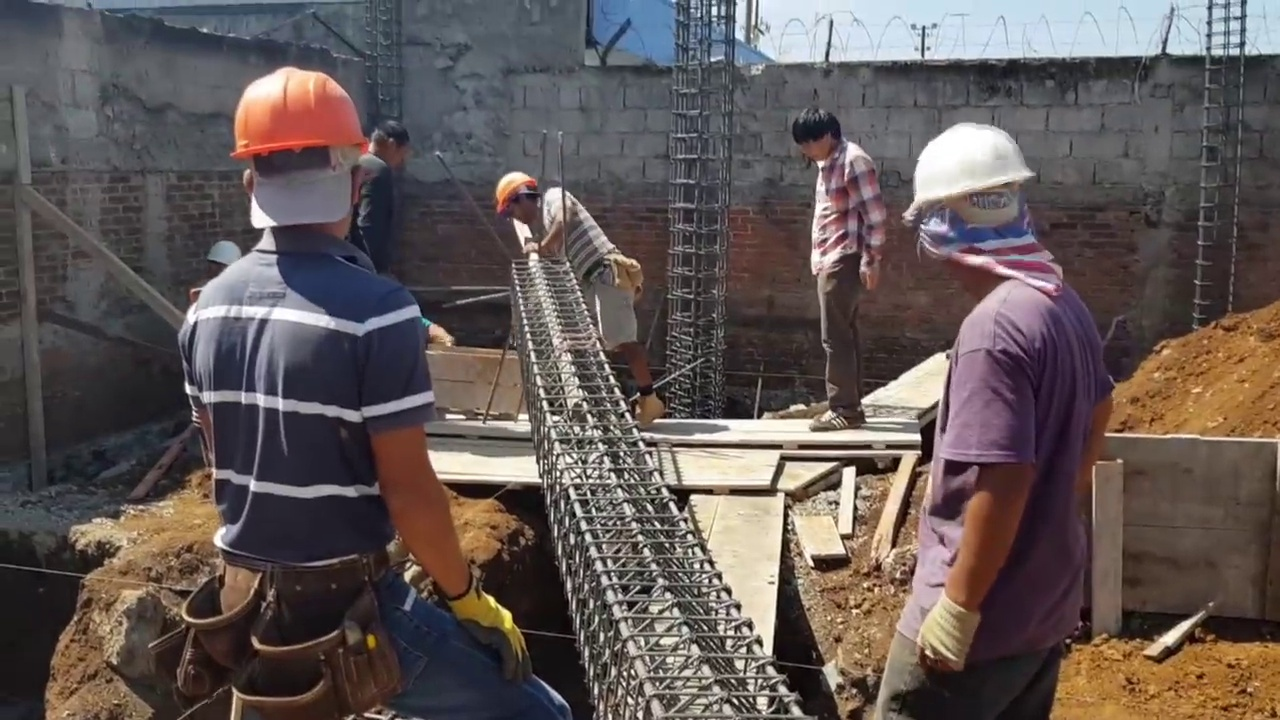helmet: (224, 62, 367, 172), (904, 120, 1044, 214), (495, 172, 539, 214), (201, 236, 238, 265)
helmet-off: (792, 106, 845, 165), (370, 116, 414, 169)
helmet-on: (223, 59, 368, 262), (900, 121, 1056, 288), (494, 171, 544, 230)
person: (177, 68, 538, 720), (881, 137, 1103, 720), (491, 171, 654, 427), (797, 98, 891, 437), (344, 111, 418, 266)
